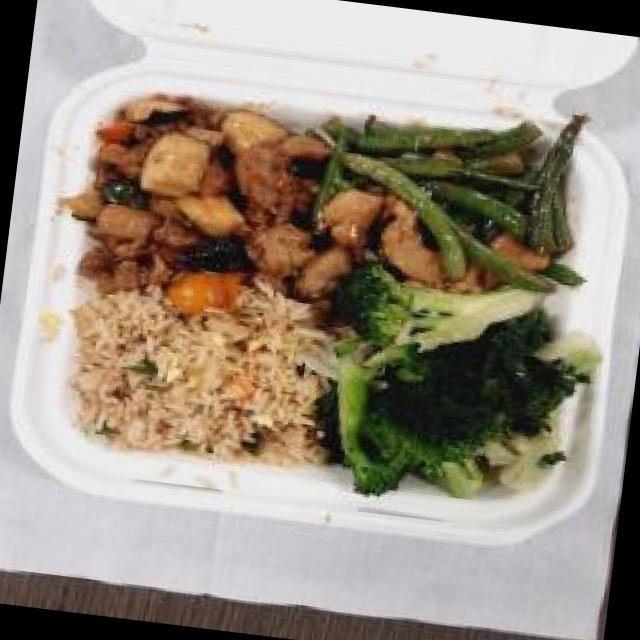Fried Rice: (57, 273, 345, 484)
Kung Pao Chicken: (54, 79, 351, 326)
String Bean Chicken Breast: (300, 94, 598, 318)
Super Greens: (307, 278, 598, 512)
